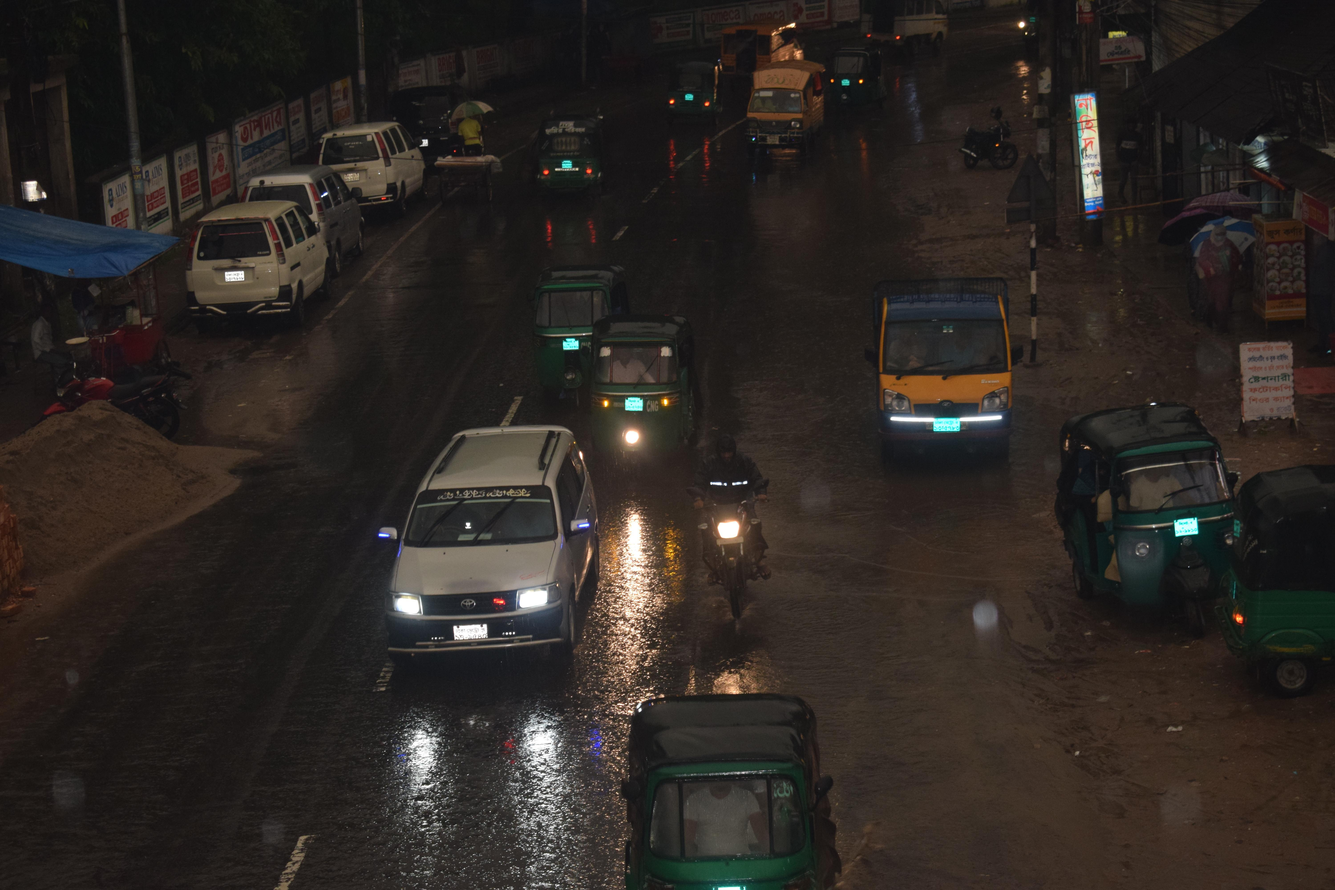Bike: (644, 419, 805, 645)
Car: (320, 392, 637, 695), (154, 188, 339, 350), (225, 154, 387, 275), (310, 103, 448, 239), (719, 50, 848, 167)
Truck: (834, 245, 1064, 533)
